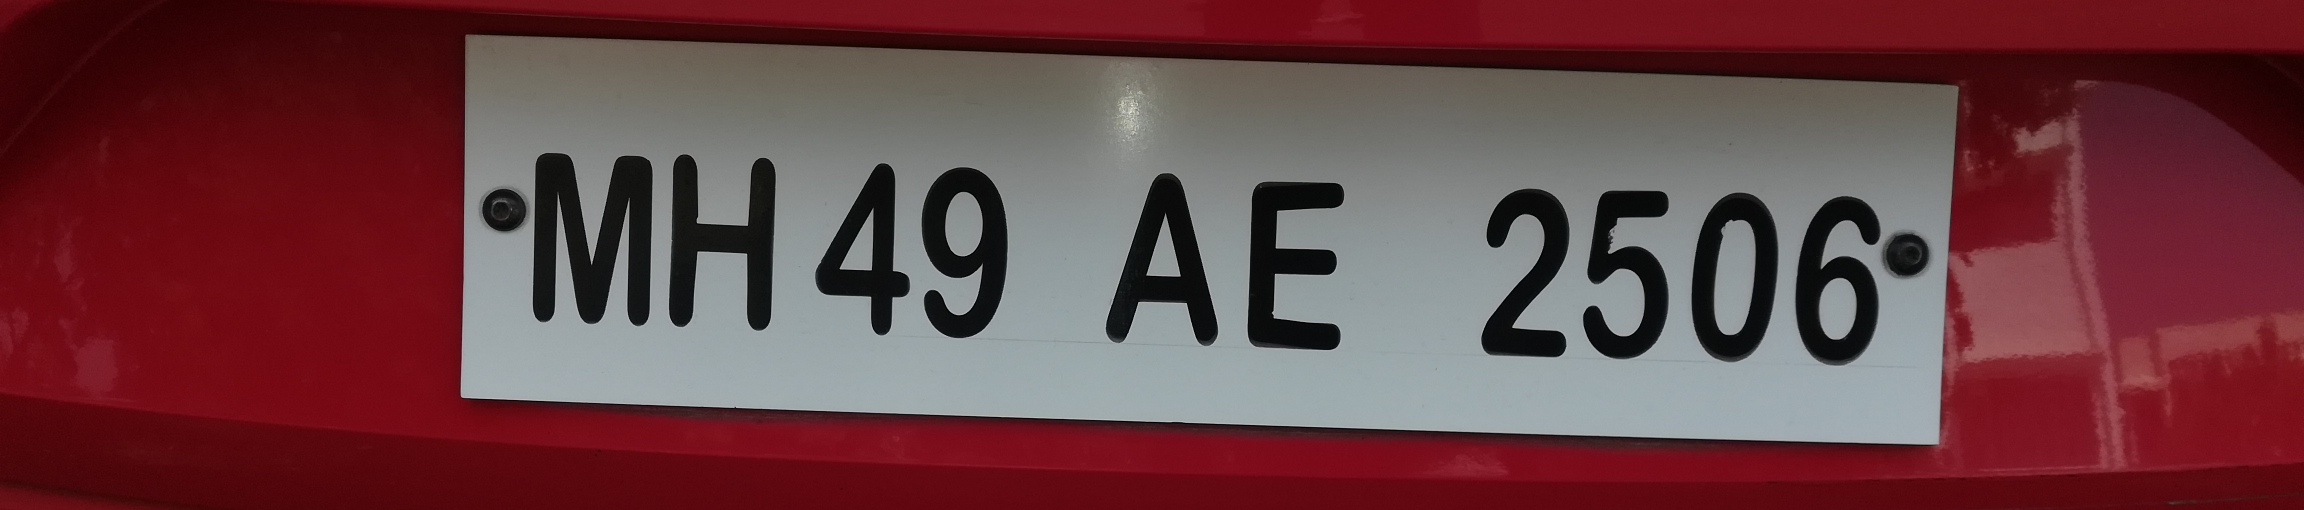numberplate: (455, 26, 1965, 464)
